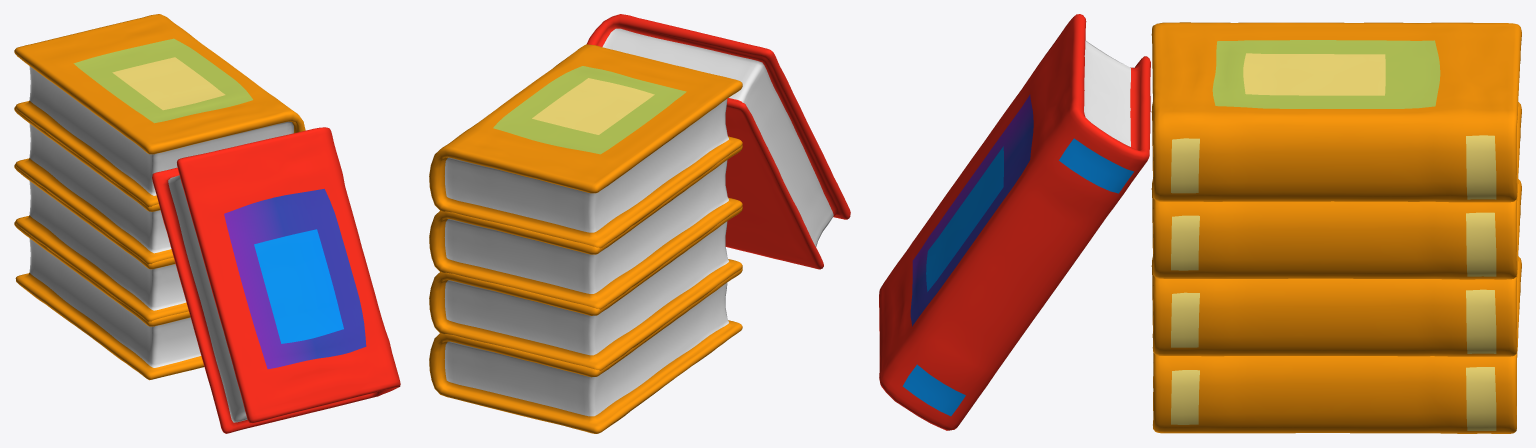
File: libros1_CGIHC.fbx
3 views of the same model, side by side, from view 1: azimuth 30°, elevation 25°; view 2: azimuth 150°, elevation 25°; view 3: azimuth 270°, elevation 25° (orthographic). The views are drawn at different scales.
Parts seen in each view (by area): view 1: mesh.009; view 2: mesh.009; view 3: mesh.009.
Part boxes in pixels (x1,y1,x2,y2): mesh.009: [14, 14, 400, 433]; mesh.009: [429, 14, 850, 433]; mesh.009: [879, 14, 1521, 433].
Size of the model in its own units: 67.67 by 96.82 by 174.
